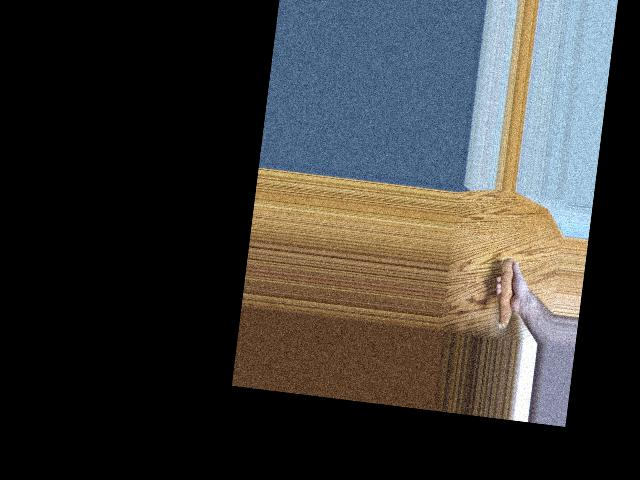sweet_potato: (491, 251, 523, 331)
